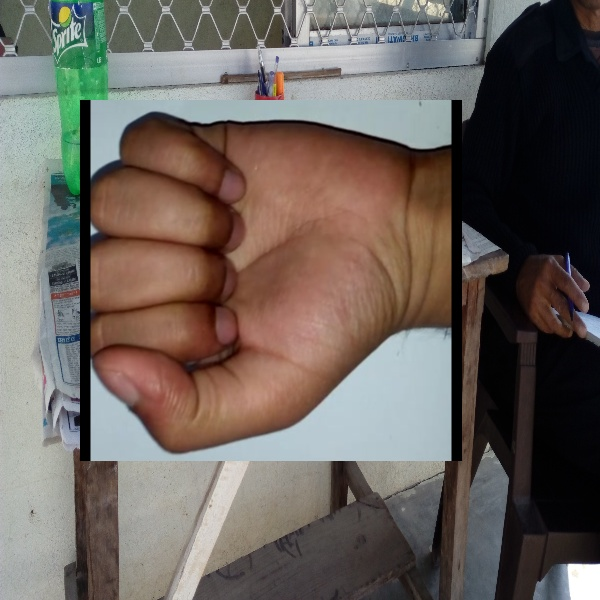A: (80, 100, 462, 461)
